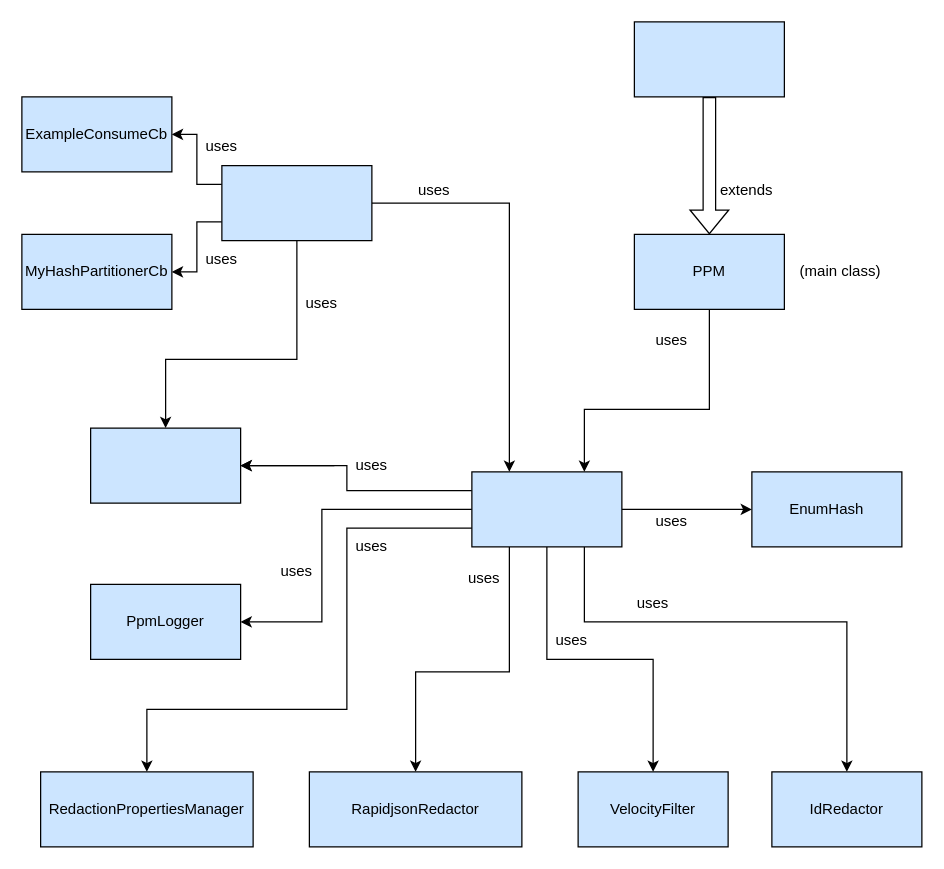
This 944x869 diagram has some shape labels left out. The centre of each missing label's shape, as x and y in pixels:
BSM: point 165,465
BSMHandler: point 546,509
KafkaConsumer: point 296,202
Tool: point 708,59
